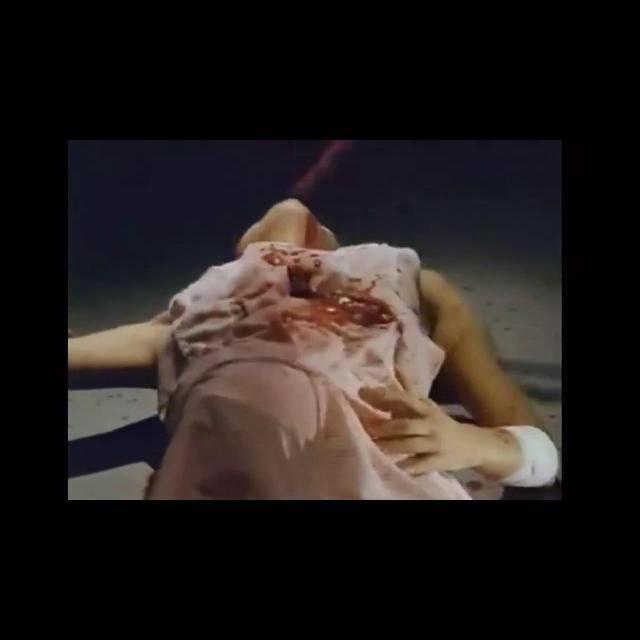blood: (172, 216, 562, 500)
